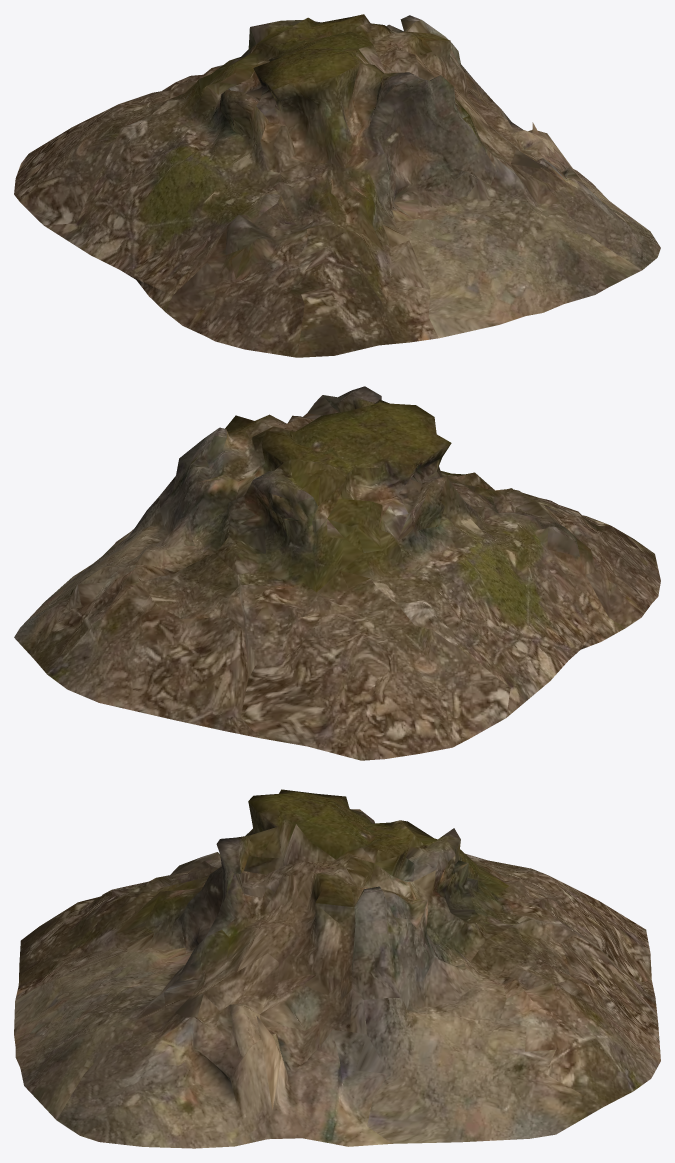
Rendered from pv_stump.glb.
3 renders of one model, top to bottom at view 1: azimuth 30°, elevation 25°; view 2: azimuth 150°, elevation 25°; view 3: azimuth 270°, elevation 25°, orthographic. The views are drawn at different scales.
Visible parts, largest first — view 1: pv_stump; view 2: pv_stump; view 3: pv_stump.
Boxes of the visible parts, <box> form: pv_stump: <box>14,14,660,357</box>; pv_stump: <box>14,386,660,760</box>; pv_stump: <box>14,789,660,1148</box>.
Size of the model in its own units: 1.43 by 0.5749 by 1.59.
Materials: 1 (1 with a texture image).
